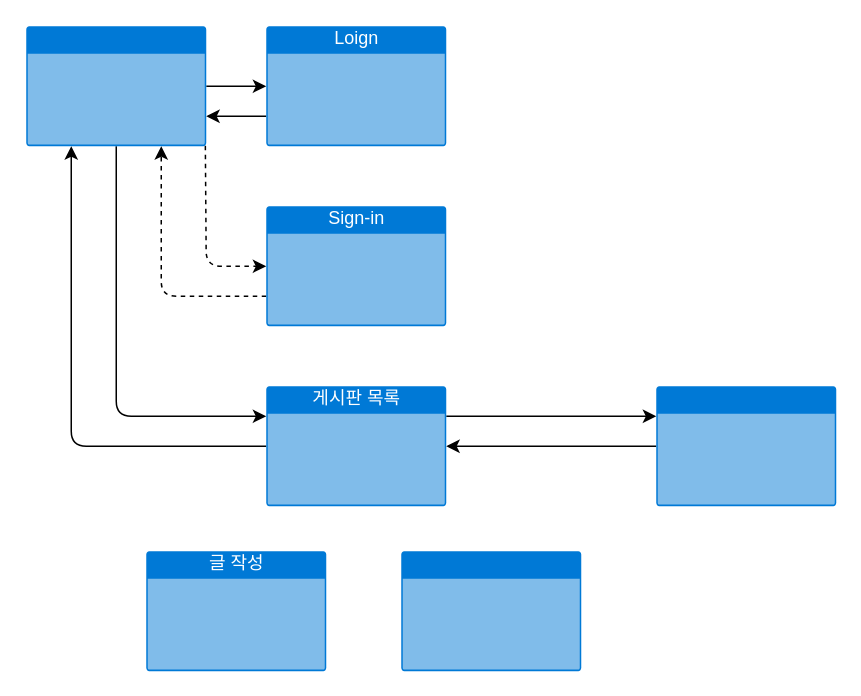
Image size: 861x696. Some labels were removed from this diagram. The shapes that lost their labels are listed below. From the top down, each one's centre as x and y in pixels, then its label:
(x=116, y=86): index(/)
(x=746, y=446): 게시판 상세
